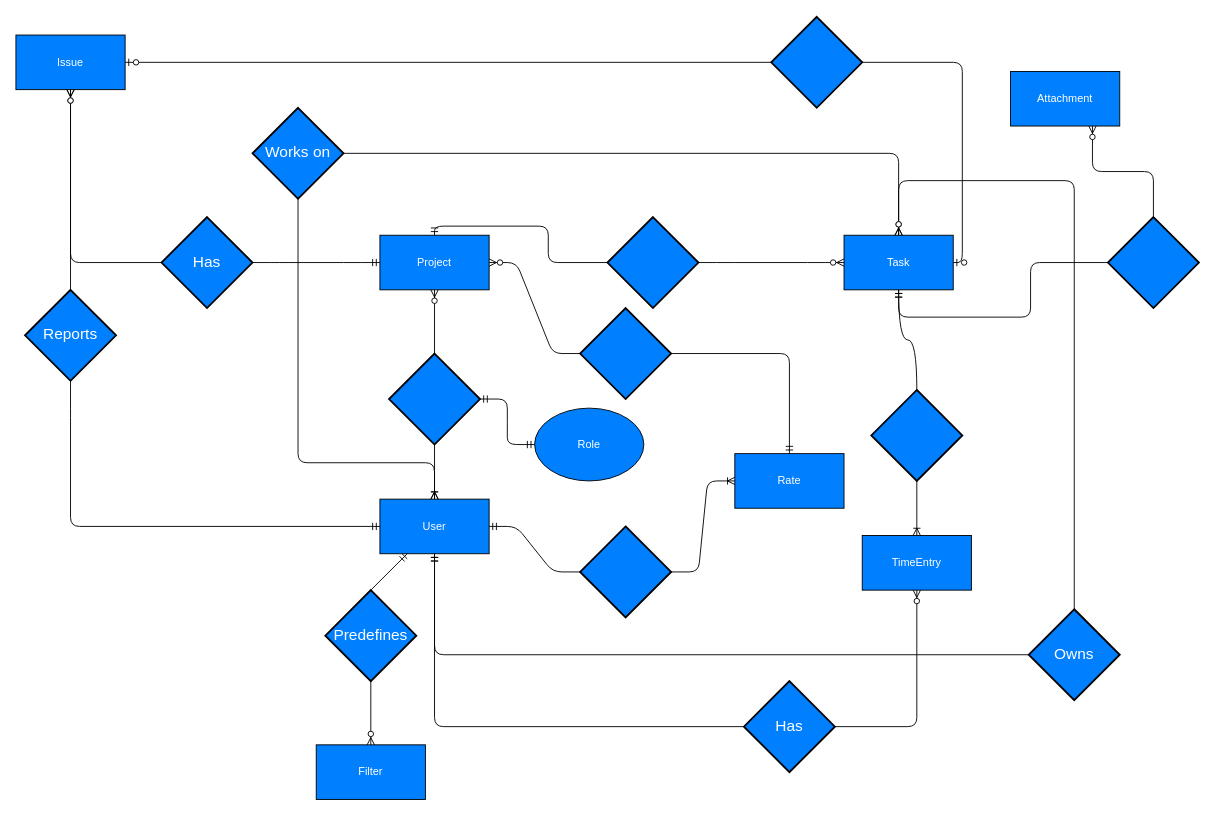
Some shapes in this 1216 by 815 pixel diagram are drawn without their labels. The centre of each missing label's shape, as x and y in pixels:
"Applies" goes at point 625,353.
"Belongs" goes at point 625,571.
"Consists of" goes at point 652,262.
"Consumes" goes at point 916,435.
"Contains" goes at point 1153,262.
"Is member of" goes at point 434,398.
"Resolves" goes at point 816,61.
